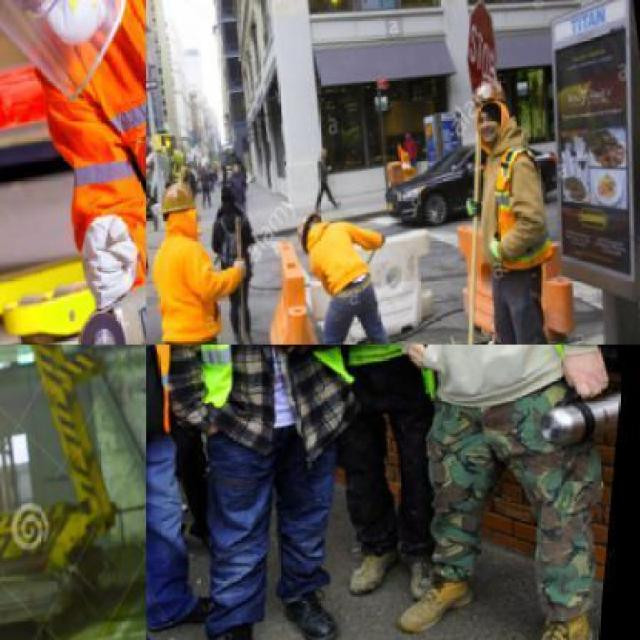Vest: (0, 0, 145, 283), (168, 344, 378, 414), (380, 344, 615, 404), (471, 137, 569, 272)
